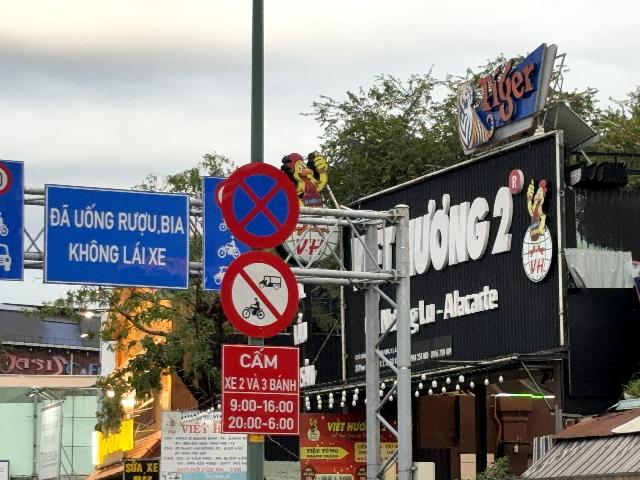cam-dung-va-do-xe: (221, 162, 300, 250)
cam-xe-2-banh-3-banh: (221, 250, 300, 339)
